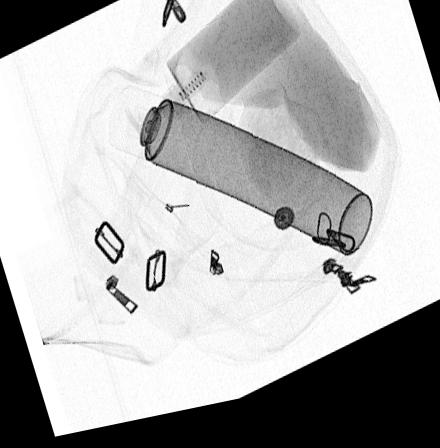Sprayer: (107, 91, 373, 270)
